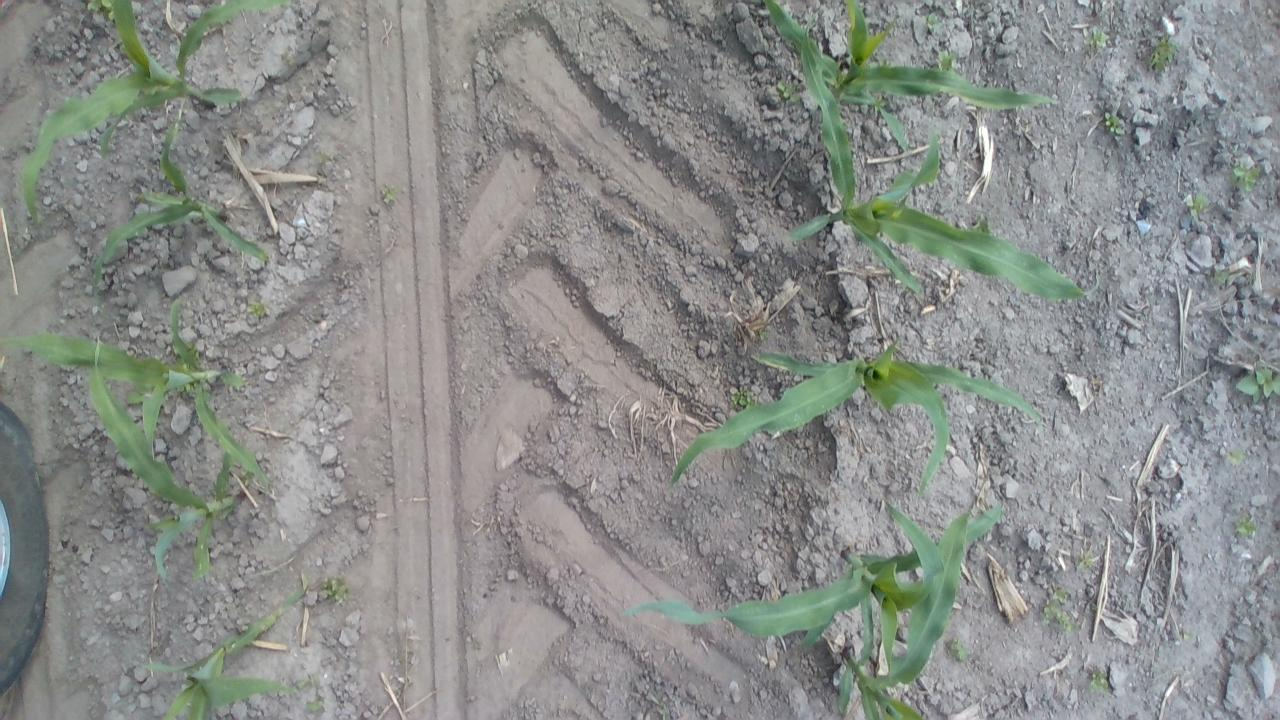Maize: (784, 11, 1102, 304), (617, 495, 1003, 673), (18, 0, 294, 223), (666, 338, 1048, 495), (0, 298, 278, 495), (762, 0, 1062, 153), (86, 330, 236, 578), (88, 116, 268, 296), (835, 510, 969, 720), (134, 583, 308, 720)
Weeds: (1040, 586, 1080, 633), (1234, 367, 1280, 402), (1144, 33, 1177, 72), (1226, 159, 1262, 191), (320, 574, 350, 602), (83, 0, 118, 22), (728, 385, 761, 408), (1184, 193, 1210, 217), (774, 80, 800, 104), (125, 382, 154, 403), (1088, 668, 1111, 694), (948, 636, 971, 660), (1103, 110, 1125, 135), (1084, 27, 1110, 48), (970, 214, 994, 235), (935, 50, 955, 73), (920, 12, 941, 32), (1074, 551, 1096, 570), (1234, 516, 1256, 535), (245, 300, 268, 318), (296, 673, 320, 690), (379, 184, 398, 204), (870, 93, 889, 113), (307, 693, 325, 713), (175, 356, 196, 373), (240, 466, 256, 488), (1228, 448, 1247, 466), (174, 381, 200, 394), (313, 148, 331, 165), (1212, 267, 1230, 284), (185, 340, 201, 359), (868, 57, 890, 68), (759, 328, 769, 340), (652, 694, 662, 706), (1181, 632, 1192, 640), (662, 708, 668, 720)
